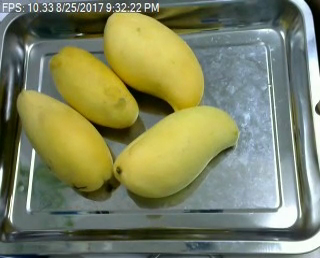Mango: (112, 106, 236, 197), (102, 9, 205, 112), (17, 90, 114, 189), (50, 47, 140, 127)
